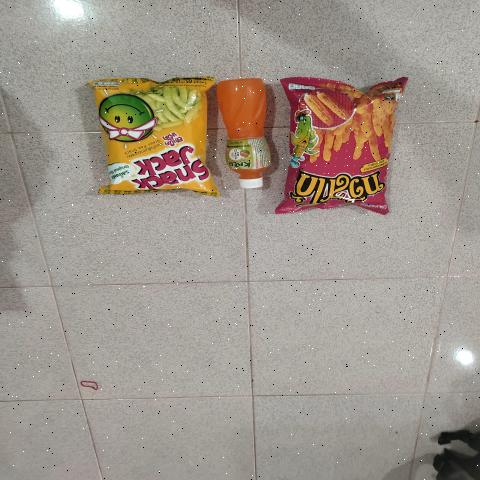snack_jack: (112, 97, 205, 183)
twisco: (302, 93, 382, 203)
